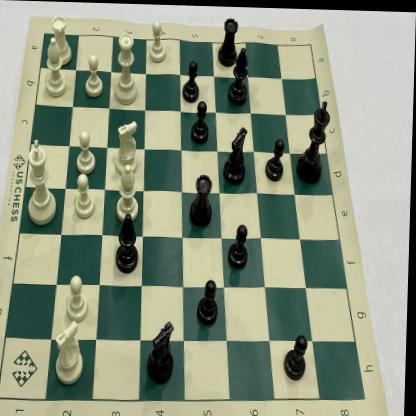black-bishop: (111, 209, 143, 276), (227, 42, 252, 110)
black-king: (296, 95, 332, 186)
black-knight: (148, 314, 178, 386), (222, 123, 250, 188)
black-pawn: (283, 326, 312, 382), (196, 274, 223, 326), (228, 218, 252, 272), (263, 133, 288, 183), (180, 56, 204, 104), (190, 98, 214, 145)
black-rook: (188, 166, 218, 228), (214, 11, 240, 69)
white-bishop: (40, 36, 72, 100), (116, 162, 142, 225)
white-king: (25, 135, 62, 226)
white-knight: (56, 316, 90, 389), (113, 116, 141, 177)
white-pawn: (65, 272, 92, 324), (73, 170, 98, 220), (144, 16, 168, 65), (83, 52, 107, 100), (76, 128, 98, 174)
white-queen: (114, 28, 142, 108)
white-rook: (48, 14, 74, 69)
